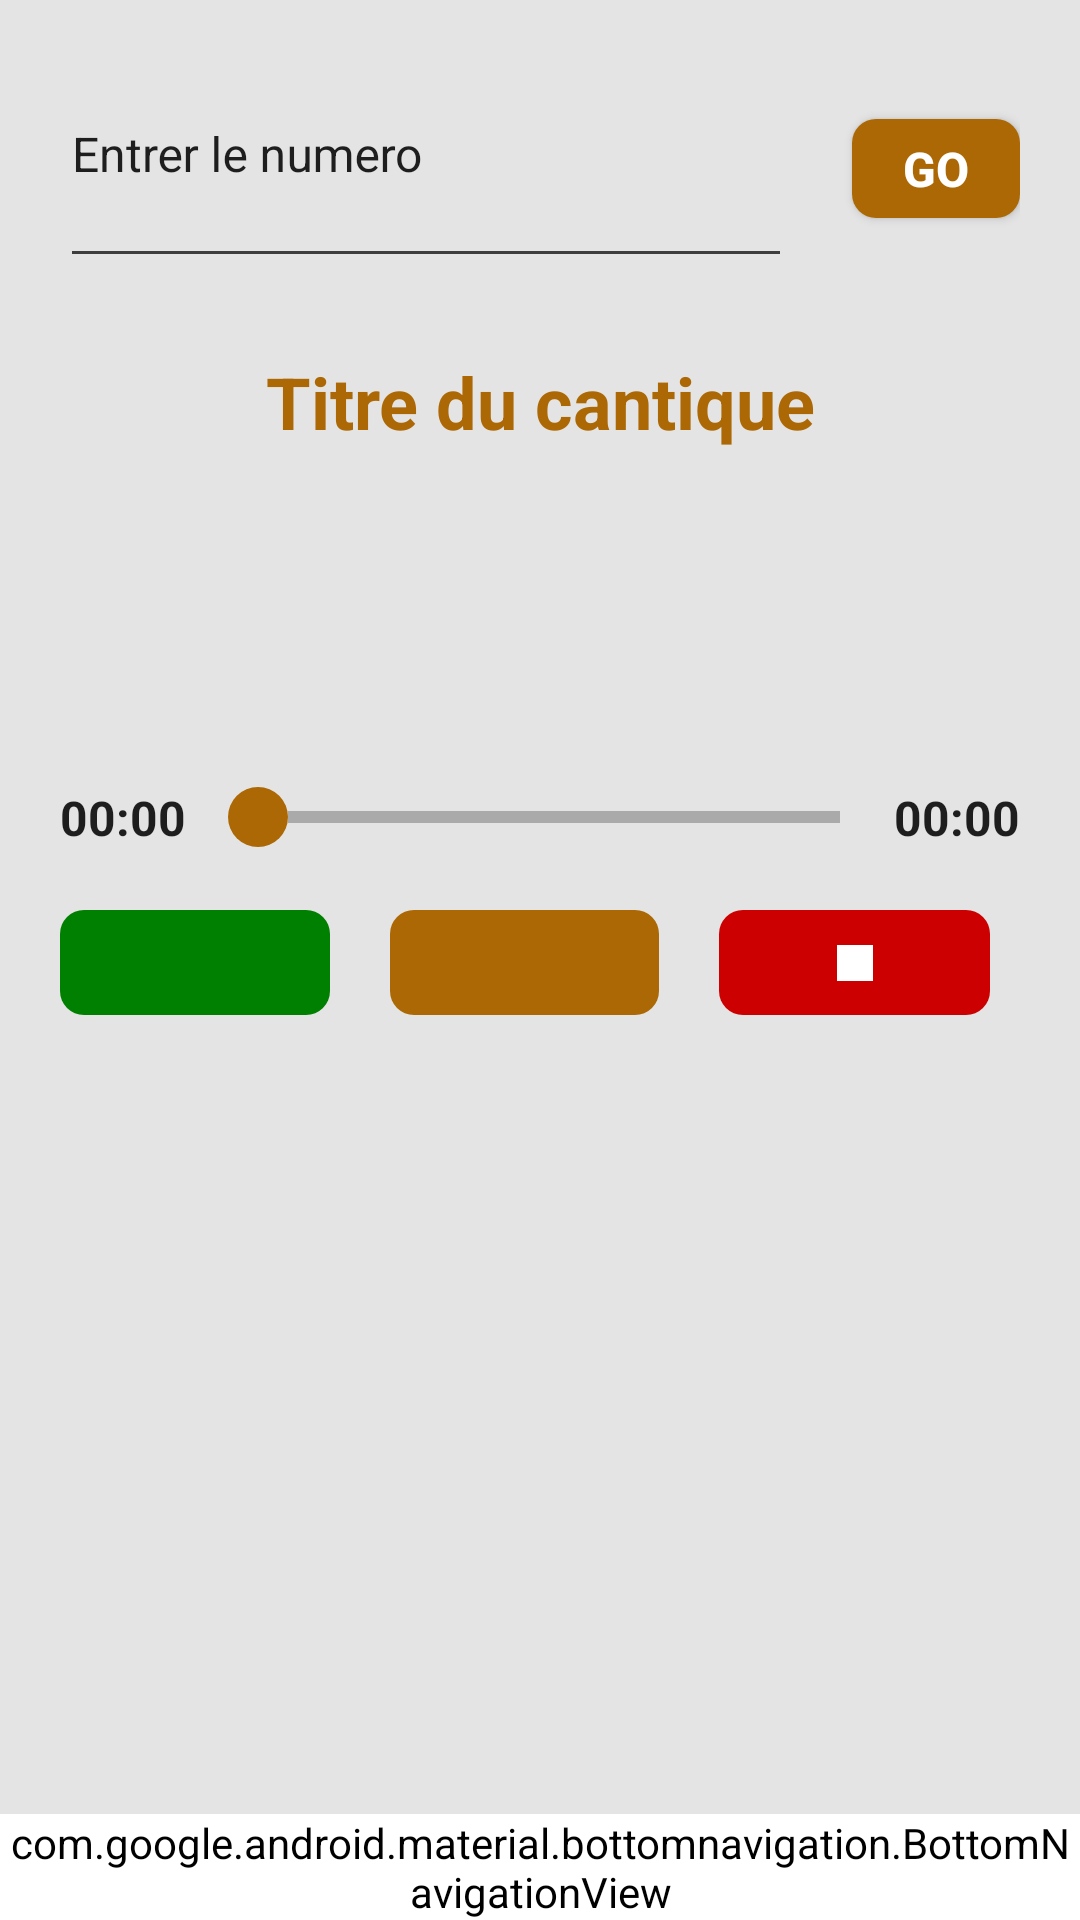

Screen size 1080w x 1920h. Icon name, then its box in pixels as (x1, y1, x2, y2):
stop: (719, 910, 990, 1015)
